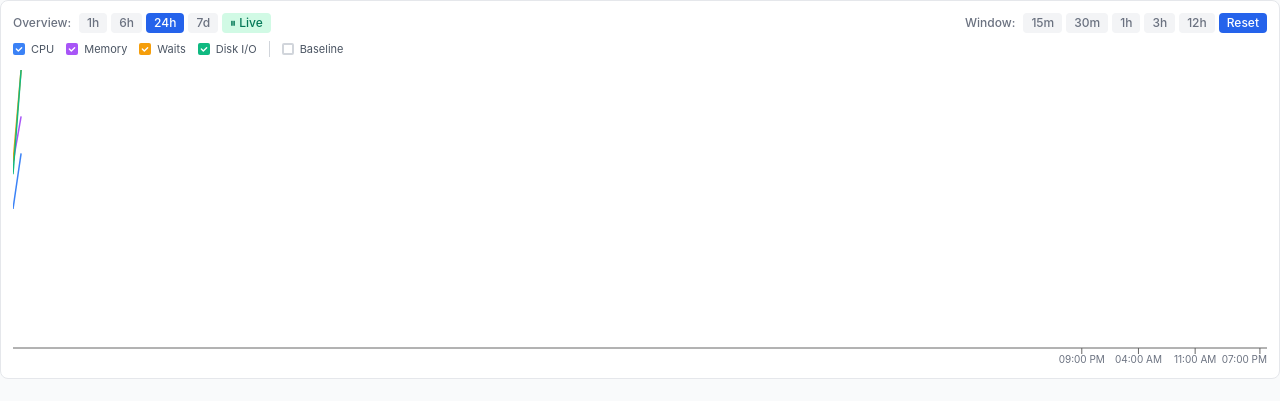
OverviewTimeline › baseline metric dropdown appears when baseline is enabled
This screenshot has width=1280, height=401.
Click the checkbox with test id "toggle-baseline": (312, 49) left=282, top=41, right=343, bottom=58
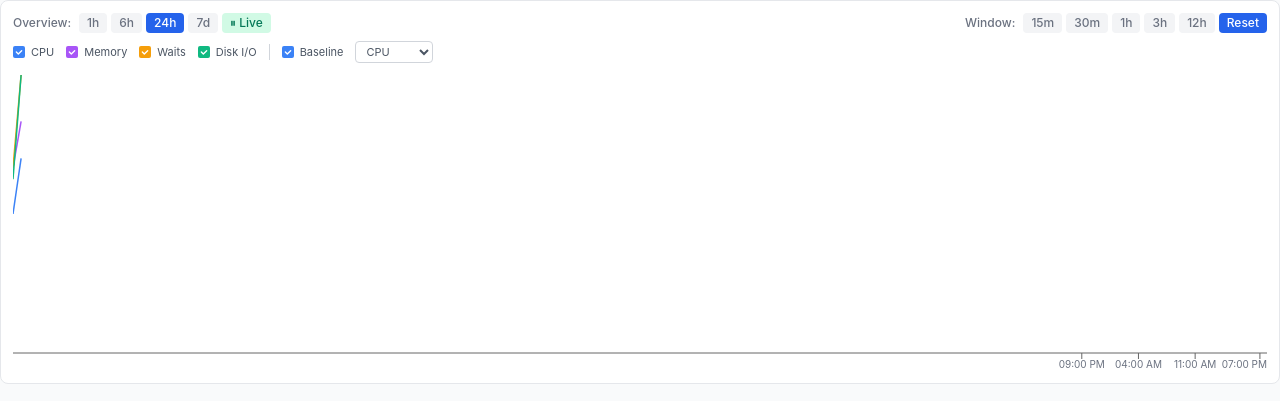
Now the dropdown with test id "baseline-metric-select" is shown, box left=356, top=41, right=434, bottom=63
